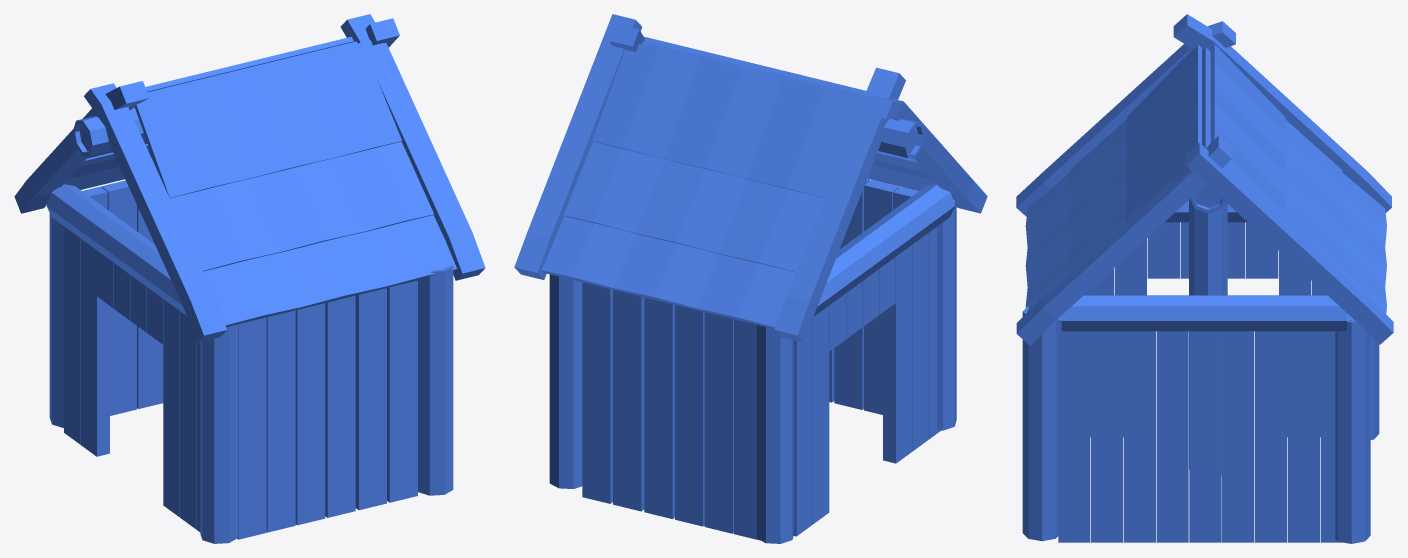
The model's file is Barn_Variant1.fbx.
3 renders of one model, left to right at view 1: azimuth 30°, elevation 25°; view 2: azimuth 150°, elevation 25°; view 3: azimuth 270°, elevation 25°, orthographic.
Parts seen in each view (by area): view 1: Barn_Variant1; view 2: Barn_Variant1; view 3: Barn_Variant1.
Boxes of the visible parts, bbox=[...] form: Barn_Variant1: bbox=[14, 14, 485, 543]; Barn_Variant1: bbox=[514, 14, 987, 543]; Barn_Variant1: bbox=[1016, 14, 1393, 543].
Size of the model in its own units: 285 by 365 by 308.
